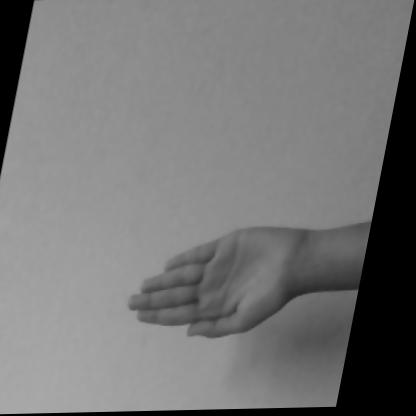palm: (113, 174, 356, 382)
